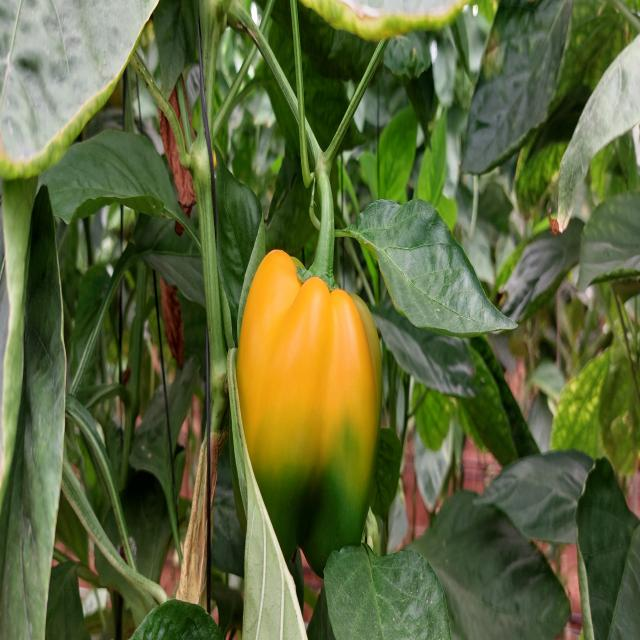GreenishYellow--Can-be-Harvested: (232, 226, 396, 582)
